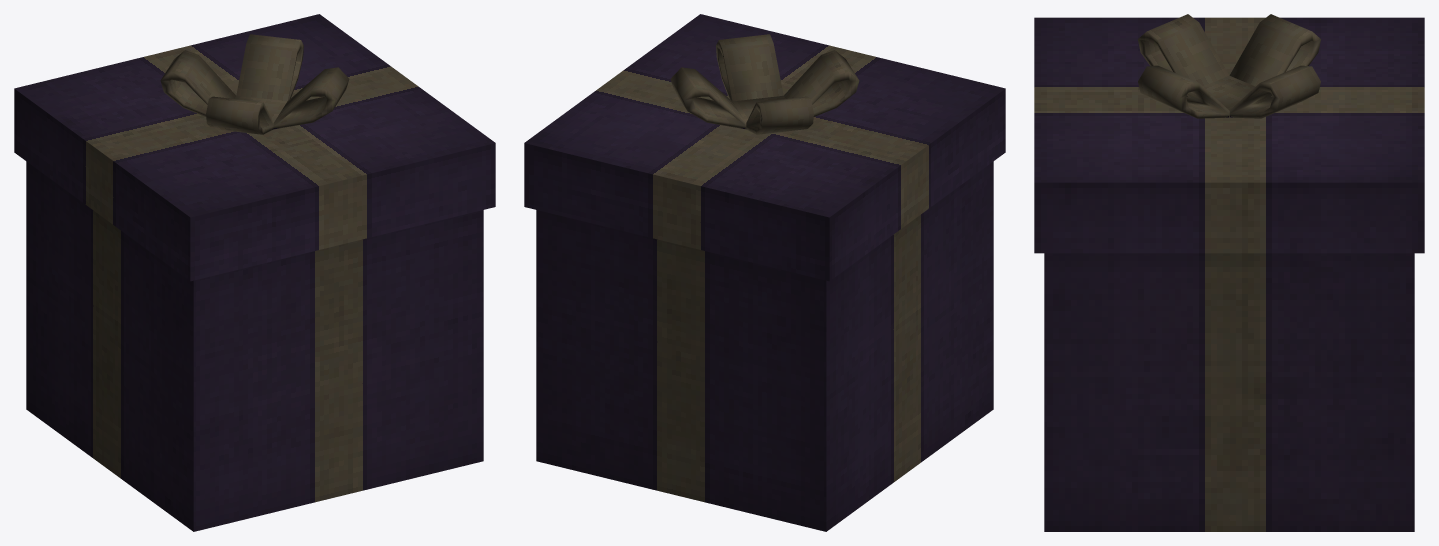
Rendered from gift_box_mx_1_3.glb.
3 renders of one model, left to right at view 1: azimuth 30°, elevation 25°; view 2: azimuth 150°, elevation 25°; view 3: azimuth 270°, elevation 25°, orthographic. The views are drawn at different scales.
Parts seen in each view (by area): view 1: gift_box_mx_1_3; view 2: gift_box_mx_1_3; view 3: gift_box_mx_1_3.
Boxes of the visible parts, x1,y1,x2,y2 form: gift_box_mx_1_3: [14, 14, 495, 531]; gift_box_mx_1_3: [524, 14, 1005, 531]; gift_box_mx_1_3: [1034, 14, 1424, 531].
Size of the model in its own units: 0.2 by 0.229 by 0.2.
1 material, 1 textured.
